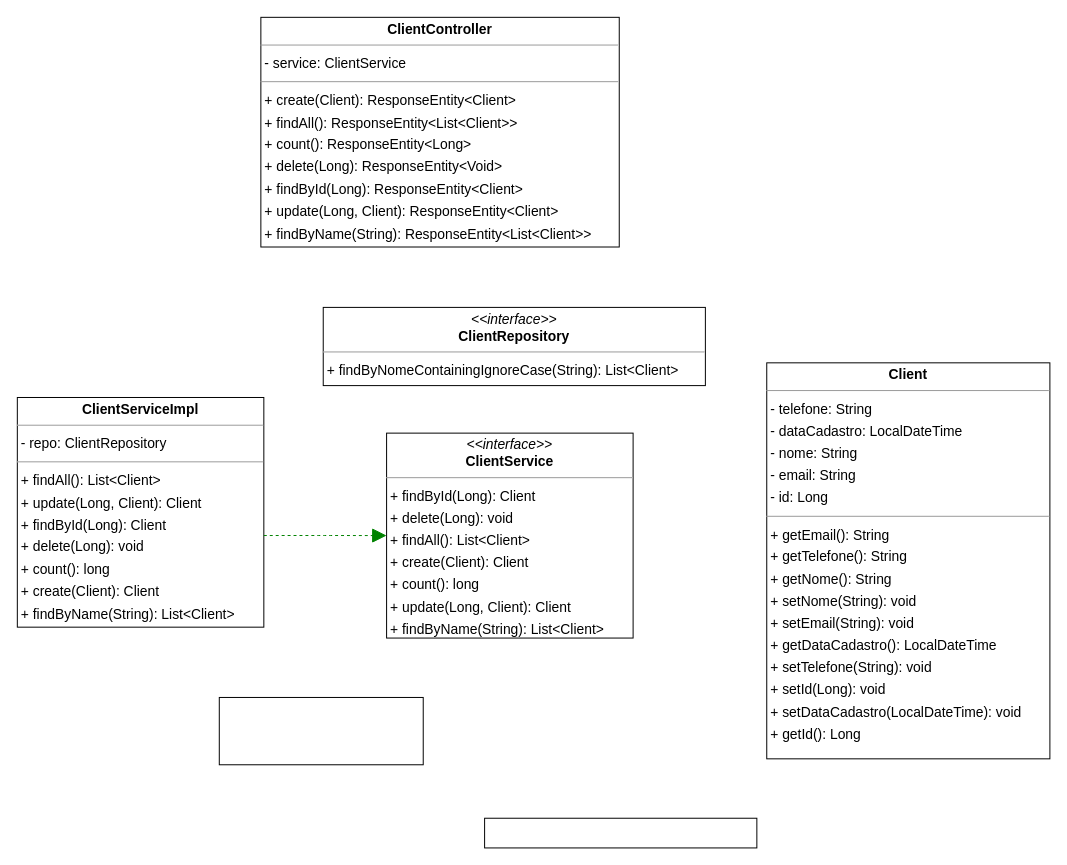
Image size: 1067x865. Some labels were removed from this diagram. Each missing label, with the centre of its shape:
ClientapiApplication + main(String[]): void: the point at 320,730
ResourceNotFoundException: the point at 620,832
